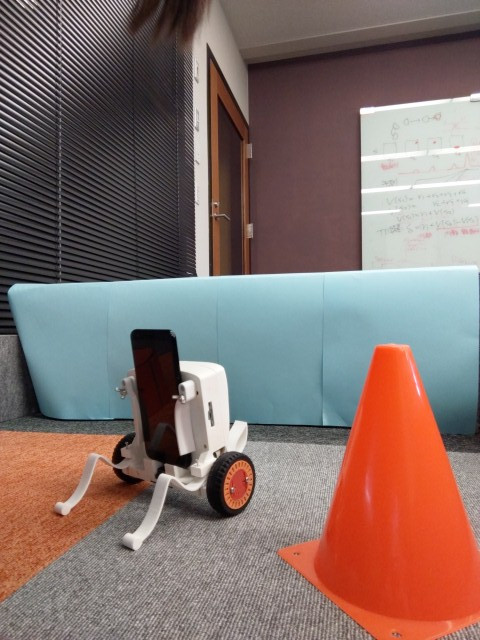bl: (48, 327, 257, 557)
